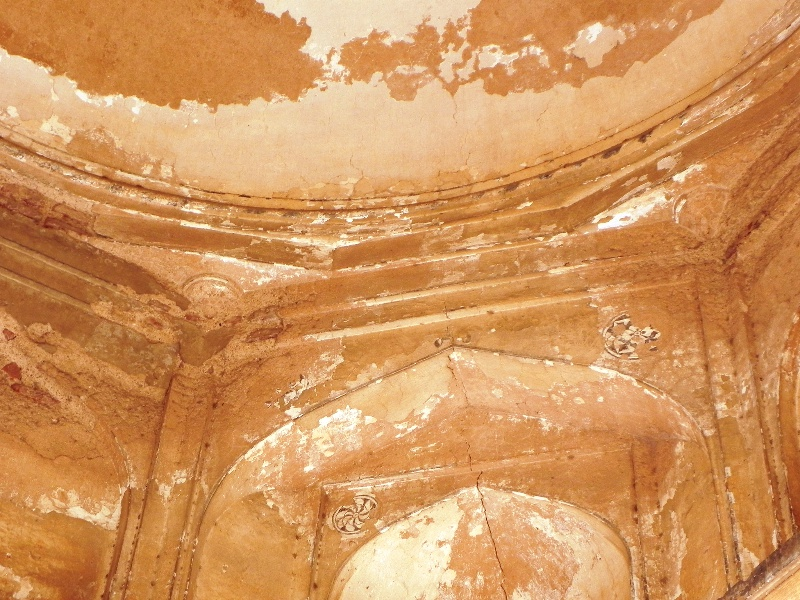Crack: (475, 484, 504, 574)
